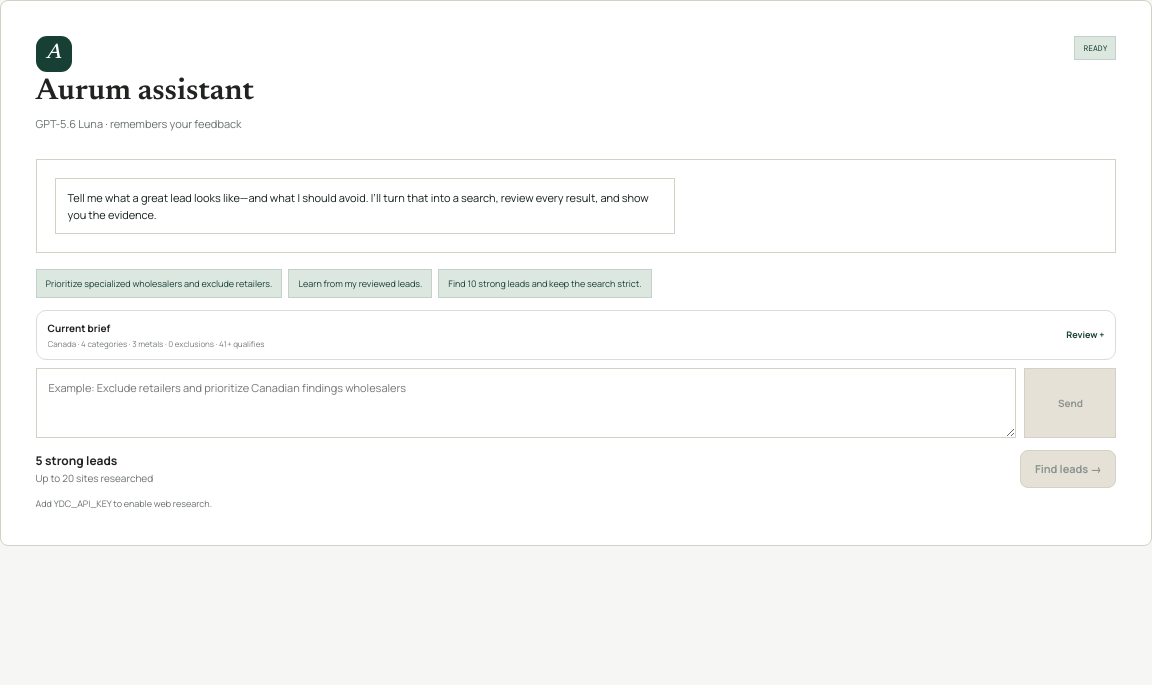
it: CriteriaAssistant › keeps the qualification equation visible without requiring manual setup
Click the text "Current brief". click: x=79, y=328
box: left=48, top=321, right=110, bottom=335
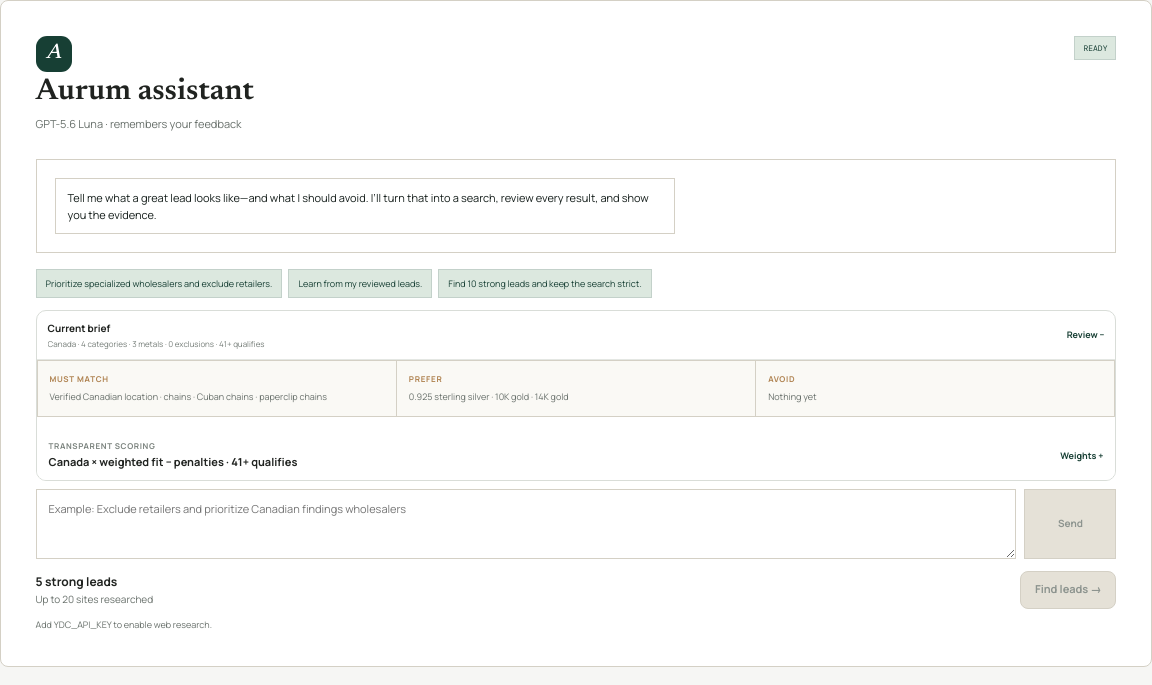
Expected: the text "Current brief" has attribute open, left=36, top=310, right=1116, bottom=480
Click the text "Weights". click: x=1082, y=455
box: left=1060, top=449, right=1104, bottom=462
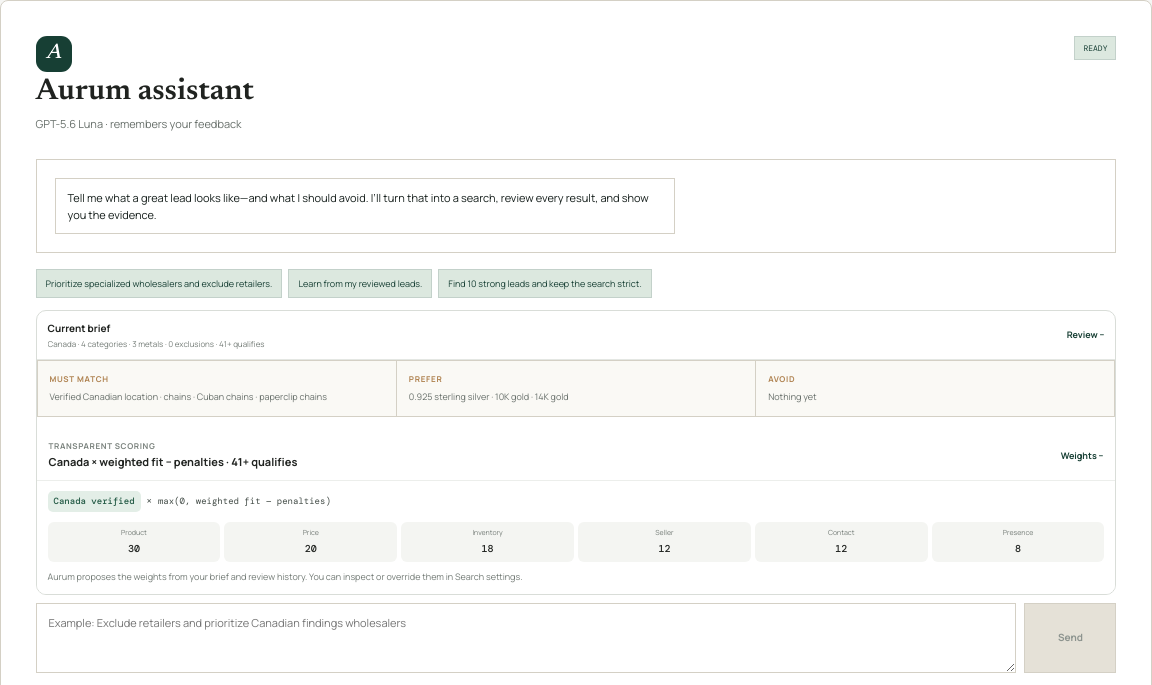
Expected: the text "max(0, weighted fit − penalties)" is shown, left=158, top=495, right=331, bottom=508
Expected: the text "30" is shown, left=128, top=542, right=140, bottom=555
Expected: the text "Aurum proposes the weights" is shown, left=48, top=570, right=522, bottom=583
